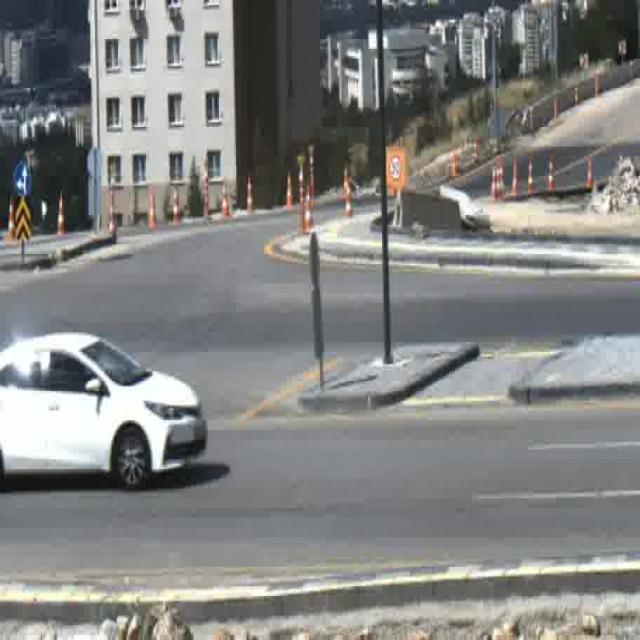Car: (0, 332, 207, 486)
